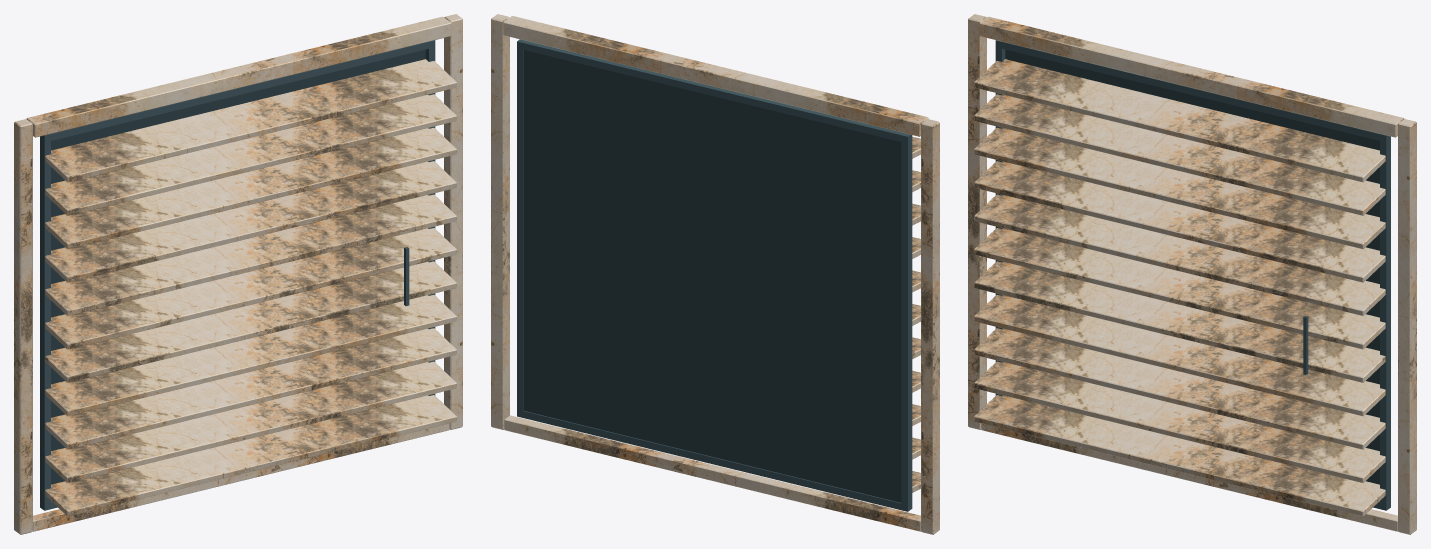
File: facade_louvered_office_ground.glb
3 views of the same model, side by side, from view 1: azimuth 30°, elevation 25°; view 2: azimuth 150°, elevation 25°; view 3: azimuth 330°, elevation 25° (orthographic).
Visible parts, largest first — view 1: facade_louvered_office_ground__VVK_concrete_CC0, facade_louvered_office_ground__VVK_painted_steel, facade_louvered_office_ground__VVK_dark_glass; view 2: facade_louvered_office_ground__VVK_dark_glass, facade_louvered_office_ground__VVK_concrete_CC0, facade_louvered_office_ground__VVK_painted_steel; view 3: facade_louvered_office_ground__VVK_concrete_CC0, facade_louvered_office_ground__VVK_painted_steel, facade_louvered_office_ground__VVK_dark_glass.
Boxes of the visible parts, bbox=[...] form: facade_louvered_office_ground__VVK_concrete_CC0: bbox=[14, 14, 462, 534]; facade_louvered_office_ground__VVK_painted_steel: bbox=[40, 40, 435, 510]; facade_louvered_office_ground__VVK_dark_glass: bbox=[51, 49, 425, 484]; facade_louvered_office_ground__VVK_dark_glass: bbox=[524, 50, 901, 502]; facade_louvered_office_ground__VVK_concrete_CC0: bbox=[491, 14, 939, 534]; facade_louvered_office_ground__VVK_painted_steel: bbox=[517, 39, 912, 511]; facade_louvered_office_ground__VVK_concrete_CC0: bbox=[968, 14, 1416, 534]; facade_louvered_office_ground__VVK_painted_steel: bbox=[995, 40, 1390, 510]; facade_louvered_office_ground__VVK_dark_glass: bbox=[1005, 49, 1379, 484].
Bounding box in the file's own units: 3.4 × 3 × 0.4305.
Materials: 3 (1 with a texture image).
